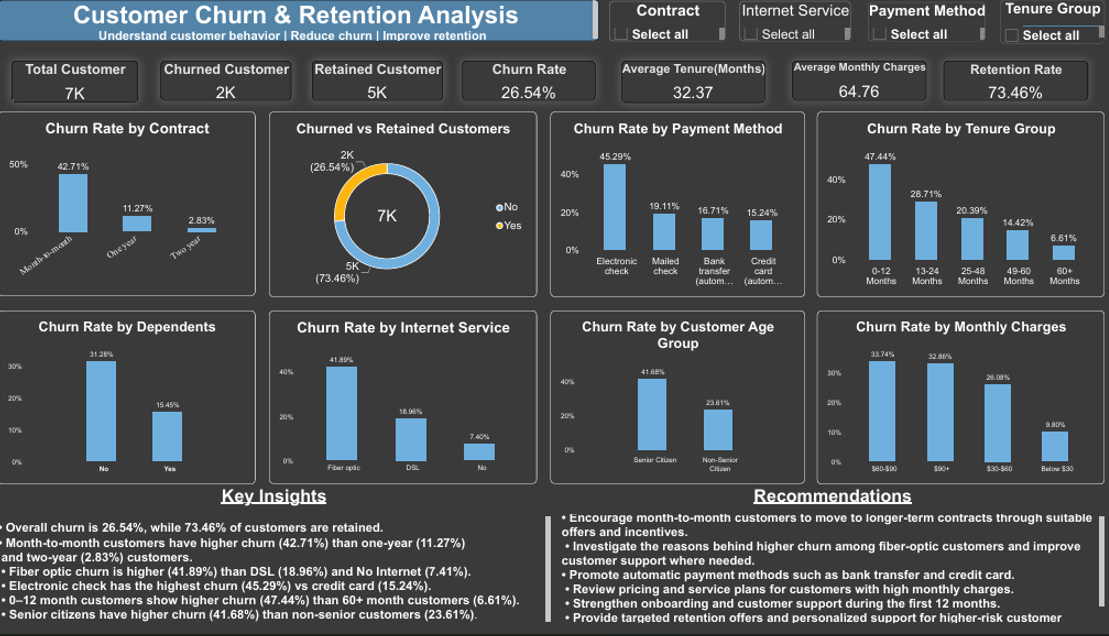

Layout of this report page (visuals, bound fields, positions):
{"tool":"powerbi","page":{"name":"Page 1","canvas":[1920,1080],"ordinal":0},"visuals":[{"type":"cardVisual","title":"Total Customer","fields":{"Data":["WA_Fn-UseC_-Telco-Customer-Chur.Total_Customer"]},"box":[23.8,105.8,220.3,72],"z":0},{"type":"cardVisual","title":"Churned Customer","fields":{"Data":["WA_Fn-UseC_-Telco-Customer-Chur.Churned_Customer"]},"box":[283,105.8,226.8,69.1],"z":1000},{"type":"cardVisual","title":"Churn Rate","fields":{"Data":["WA_Fn-UseC_-Telco-Customer-Chur.Churn_Rate"]},"box":[805.7,105.8,231.1,69.1],"z":2000},{"type":"cardVisual","title":"Retained Customer","fields":{"Data":["WA_Fn-UseC_-Telco-Customer-Chur.Retained_customer"]},"box":[544.3,105.8,226.8,69.1],"z":3000},{"type":"cardVisual","title":"Average Tenure(Months)","fields":{"Data":["WA_Fn-UseC_-Telco-Customer-Chur.Average_Tenure"]},"box":[1082.4,105.9,249,72.5],"z":4000},{"type":"cardVisual","title":"Average Monthly Charges","fields":{"Data":["WA_Fn-UseC_-Telco-Customer-Chur.Average_Monthly_Charges"]},"box":[1378.1,105.8,233.3,69.1],"z":5000},{"type":"cardVisual","title":"Retention Rate","fields":{"Data":["WA_Fn-UseC_-Telco-Customer-Chur.Retention_Rate"]},"box":[1641.6,105.8,250.6,69.1],"z":6000},{"type":"clusteredColumnChart","title":"Churn Rate by Contract","fields":{"Category":["WA_Fn-UseC_-Telco-Customer-Chur.Contract"],"Y":["WA_Fn-UseC_-Telco-Customer-Chur.Churn_Rate"]},"box":[0,194.4,447.1,319.7],"z":7000},{"type":"clusteredColumnChart","title":"Churn Rate by Internet Service","fields":{"Category":["WA_Fn-UseC_-Telco-Customer-Chur.InternetService"],"Y":["WA_Fn-UseC_-Telco-Customer-Chur.Churn_Rate"]},"box":[470.9,540,464.5,301.4],"z":8000},{"type":"clusteredColumnChart","title":"Churn Rate by Payment Method","fields":{"Y":["WA_Fn-UseC_-Telco-Customer-Chur.Churn_Rate"],"Category":["WA_Fn-UseC_-Telco-Customer-Chur.PaymentMethod"]},"box":[959,194.4,441.8,322.1],"z":9000},{"type":"clusteredColumnChart","title":"Churn Rate by Tenure Group","fields":{"Category":["WA_Fn-UseC_-Telco-Customer-Chur.Tenure_Group"],"Y":["WA_Fn-UseC_-Telco-Customer-Chur.Churn_Rate"]},"box":[1421.3,194.4,499,321.8],"z":10000},{"type":"clusteredColumnChart","title":"Churn Rate by Customer Age Group","fields":{"Category":["WA_Fn-UseC_-Telco-Customer-Chur.Senior Citizen Status"],"Y":["WA_Fn-UseC_-Telco-Customer-Chur.Churn_Rate"]},"box":[959,540,441.8,301.4],"z":11000},{"type":"clusteredColumnChart","title":"Churn Rate by Dependents","fields":{"Category":["WA_Fn-UseC_-Telco-Customer-Chur.Dependents"],"Y":["WA_Fn-UseC_-Telco-Customer-Chur.Churn_Rate"]},"box":[0,540,447.1,302.4],"z":12000},{"type":"clusteredColumnChart","title":"Churn Rate by Monthly Charges","fields":{"Category":["WA_Fn-UseC_-Telco-Customer-Chur.Monthly_Charges_Band"],"Y":["WA_Fn-UseC_-Telco-Customer-Chur.Churn_Rate"]},"box":[1421.3,540,499,302.4],"z":13000},{"type":"textbox","box":[0,0,1042.6,72.3],"z":14000},{"type":"slicer","title":"Contract","fields":{"Values":["WA_Fn-UseC_-Telco-Customer-Chur.Contract"]},"box":[1061.2,2.1,202.3,70.2],"z":15000},{"type":"slicer","title":"Internet Service","fields":{"Values":["WA_Fn-UseC_-Telco-Customer-Chur.InternetService"]},"box":[1286.2,2.1,194.1,70.2],"z":16000},{"type":"slicer","title":"Payment Method","fields":{"Values":["WA_Fn-UseC_-Telco-Customer-Chur.PaymentMethod"]},"box":[1509.2,4.1,204.4,68.1],"z":17000},{"type":"slicer","title":"Tenure Group","fields":{"Values":["WA_Fn-UseC_-Telco-Customer-Chur.Tenure_Group"]},"box":[1738.3,0,181.7,76.4],"z":18000},{"type":"donutChart","title":"Churned vs Retained Customers","fields":{"Category":["WA_Fn-UseC_-Telco-Customer-Chur.Churn"],"Y":["WA_Fn-UseC_-Telco-Customer-Chur.Total_Customer"]},"box":[470.9,194.4,464.5,322.1],"z":19000},{"type":"textbox","box":[0,831.6,300.2,207.4],"z":20000},{"type":"textbox","title":"Key Insights","box":[0,843.1,958.8,237.3],"z":21000},{"type":"textbox","title":"Recommendations","box":[978.4,843.1,941.2,237.3],"z":22000}]}

Visuals, with their boxes in screenshot pixels (x1, y1, x2, y2), scaled from the page's 1920x1080 canvas onto the 1109x636 screenshot:
"Total Customer" cardVisual: <box>14,62,141,105</box>
"Churned Customer" cardVisual: <box>163,62,294,103</box>
"Churn Rate" cardVisual: <box>465,62,599,103</box>
"Retained Customer" cardVisual: <box>314,62,445,103</box>
"Average Tenure(Months)" cardVisual: <box>625,62,769,105</box>
"Average Monthly Charges" cardVisual: <box>796,62,931,103</box>
"Retention Rate" cardVisual: <box>948,62,1093,103</box>
"Churn Rate by Contract" clusteredColumnChart: <box>0,114,258,303</box>
"Churn Rate by Internet Service" clusteredColumnChart: <box>272,318,540,495</box>
"Churn Rate by Payment Method" clusteredColumnChart: <box>554,114,809,304</box>
"Churn Rate by Tenure Group" clusteredColumnChart: <box>821,114,1108,304</box>
"Churn Rate by Customer Age Group" clusteredColumnChart: <box>554,318,809,495</box>
"Churn Rate by Dependents" clusteredColumnChart: <box>0,318,258,496</box>
"Churn Rate by Monthly Charges" clusteredColumnChart: <box>821,318,1108,496</box>
textbox: <box>0,0,602,43</box>
"Contract" slicer: <box>613,1,730,43</box>
"Internet Service" slicer: <box>743,1,855,43</box>
"Payment Method" slicer: <box>872,2,990,43</box>
"Tenure Group" slicer: <box>1004,0,1108,45</box>
"Churned vs Retained Customers" donutChart: <box>272,114,540,304</box>
textbox: <box>0,490,173,612</box>
"Key Insights" textbox: <box>0,496,554,635</box>
"Recommendations" textbox: <box>565,496,1108,635</box>
